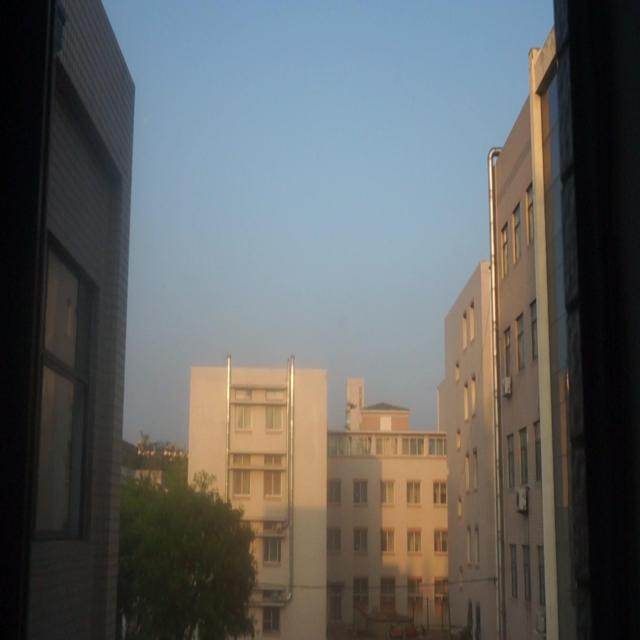drone: (346, 396, 358, 415)
